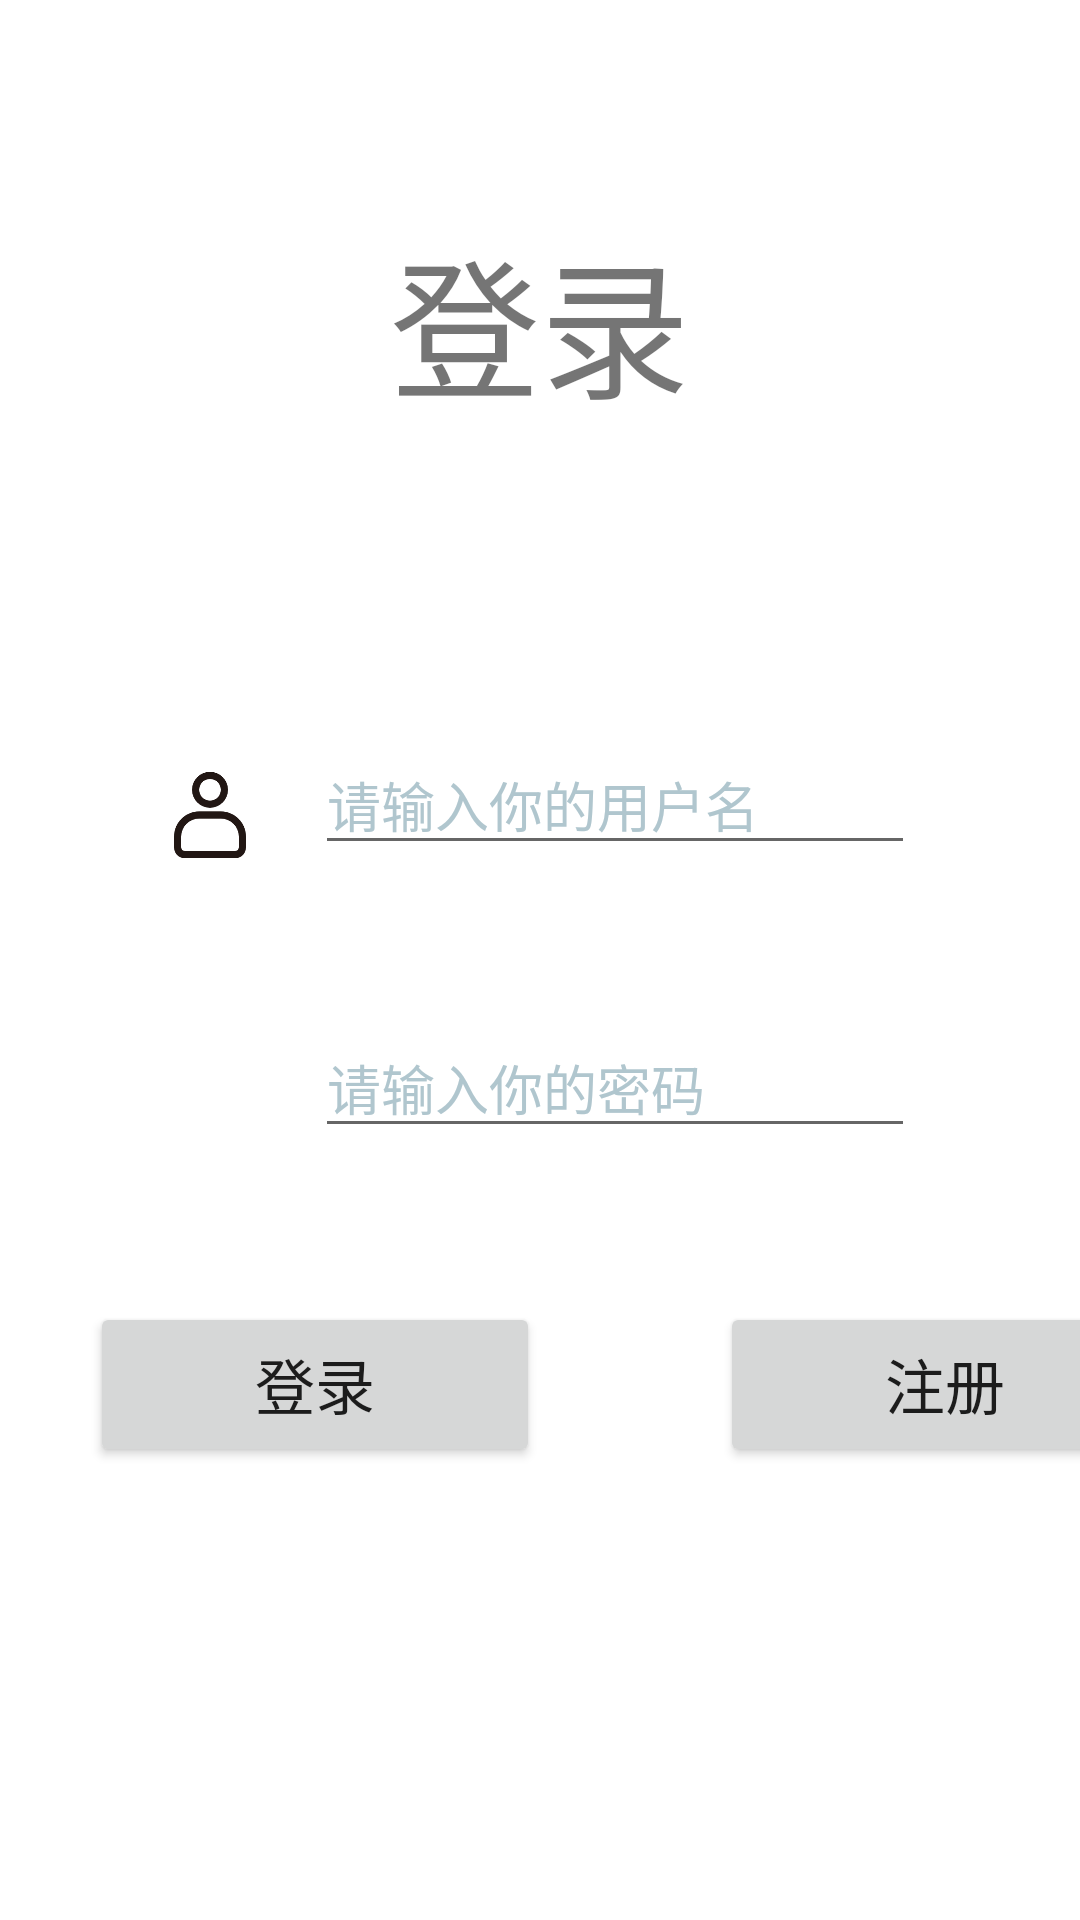

Screen size 1080×1920. Icon name, then its center in pixels as (x=x, y=y):
username: (x=210, y=815)
